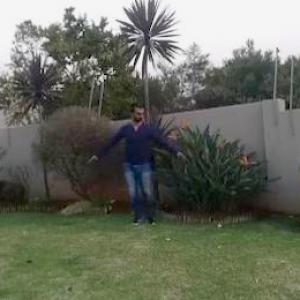land: (83, 95, 194, 236)
